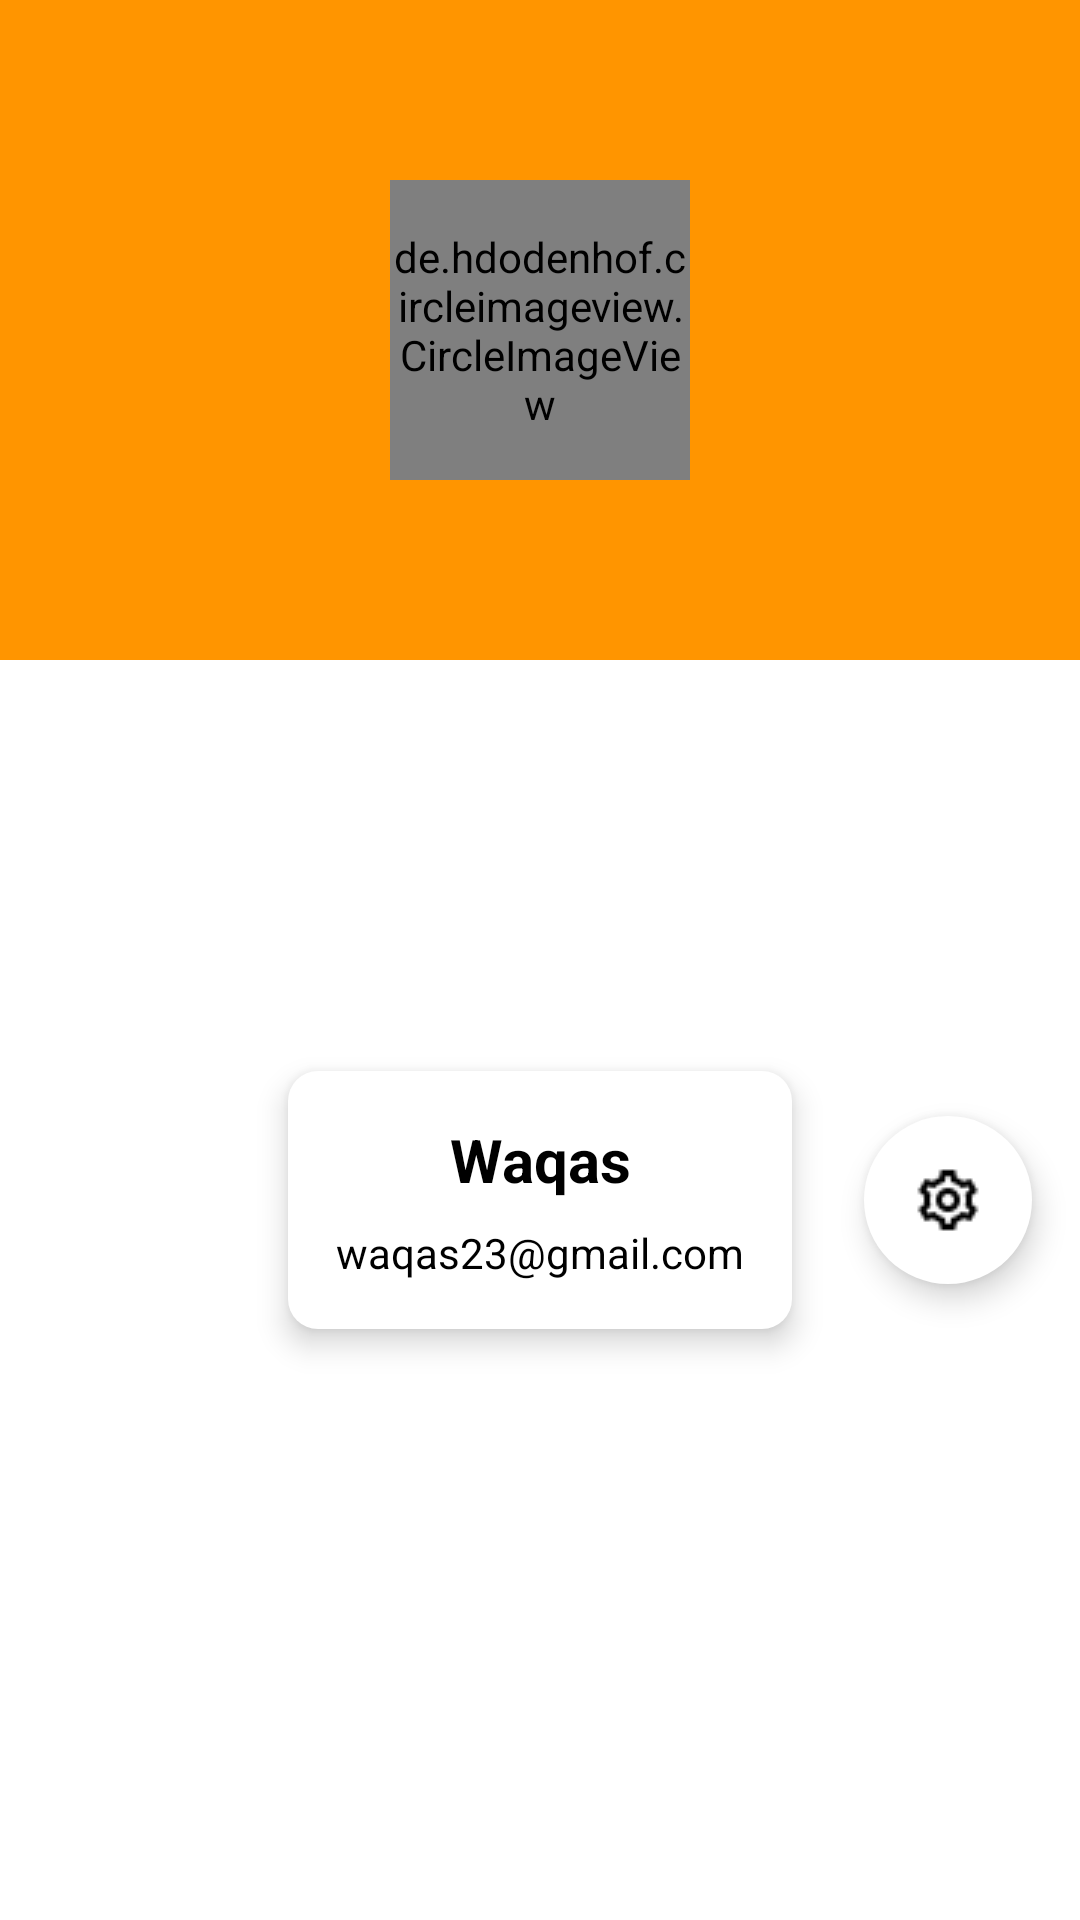

Where icons sit on this 1080 × 1920 app screen, as detection(x1, y1, x2, y2):
settingicon: detection(875, 1169, 1032, 1244)
